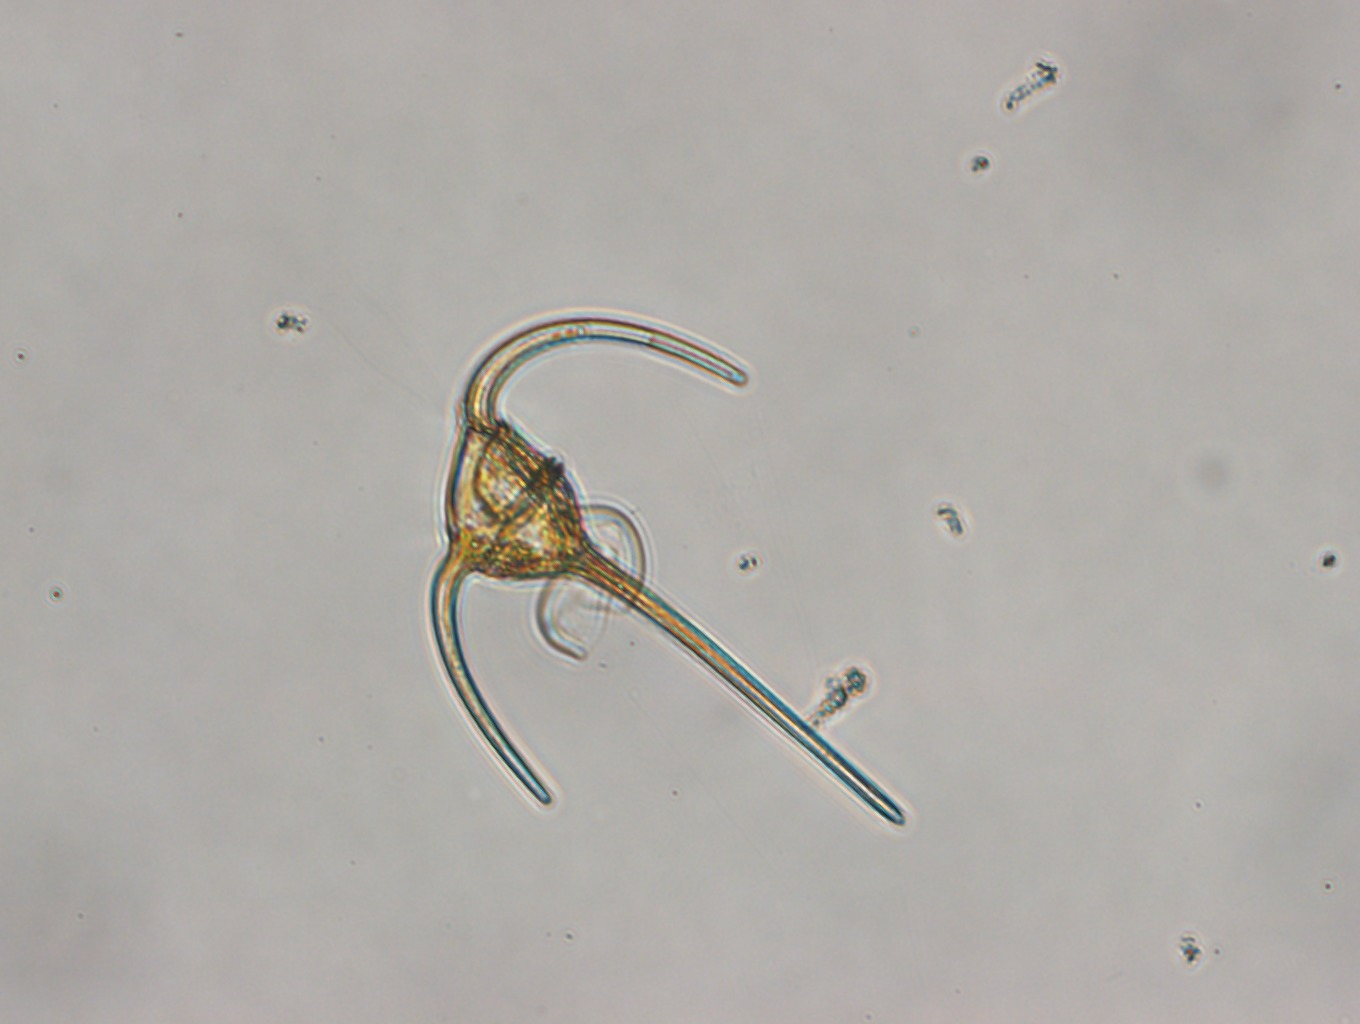ceratium trichoceros: (428, 309, 908, 831)
